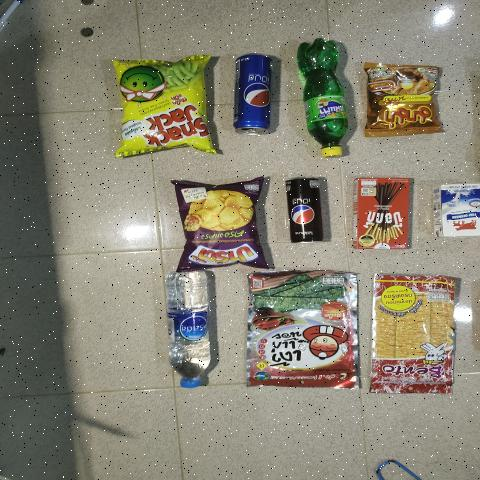bento_red: (366, 271, 464, 397)
crystal: (163, 269, 212, 390)
fanta_green: (295, 35, 357, 162)
mama: (362, 63, 448, 130)
party_purple: (187, 187, 266, 267)
pepsi_black: (285, 176, 326, 244)
pepsi_blue: (227, 52, 276, 136)
pokki: (355, 174, 412, 250)
snack_jack: (117, 63, 211, 150)
taokaenoi: (246, 281, 354, 385)
thai_denmark: (432, 188, 480, 236)
